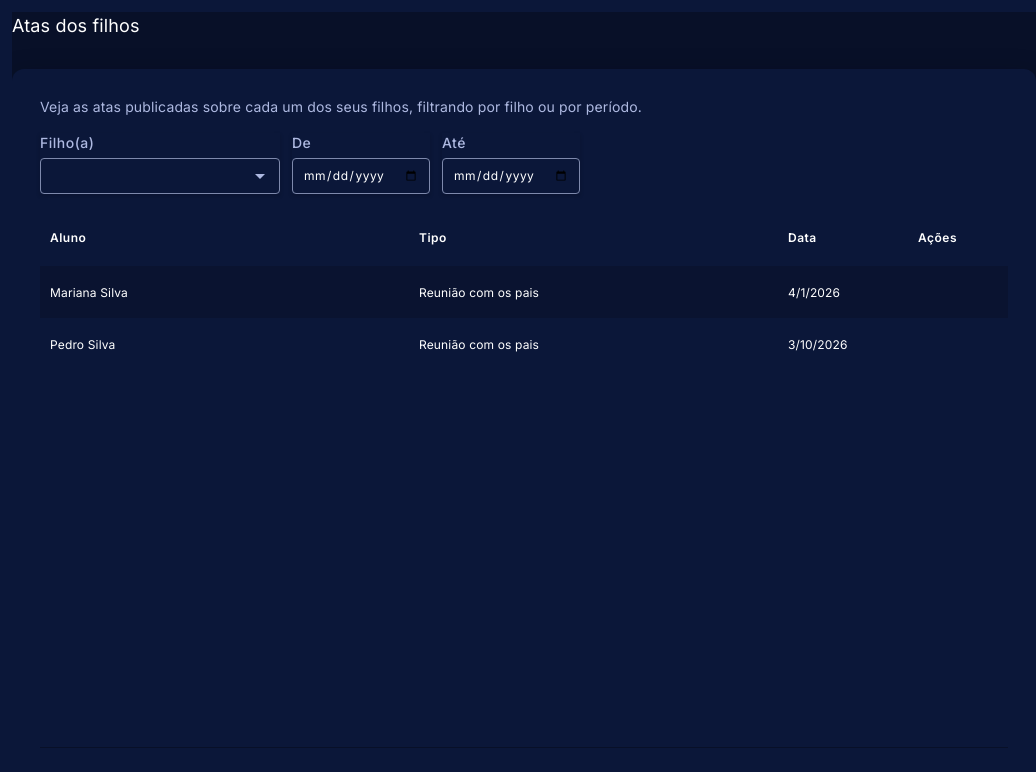
it: MyAtas › narrows the list to one student via the filter
Expected: the text "Pedro Silva" is shown, x1=50 y1=337 x2=116 y2=352
Expected: the text "Mariana Silva" is shown, x1=50 y1=285 x2=128 y2=300
Step 1. Click the dropdown named "filho" → (160,176), box x1=51 y1=167 x2=269 y2=185
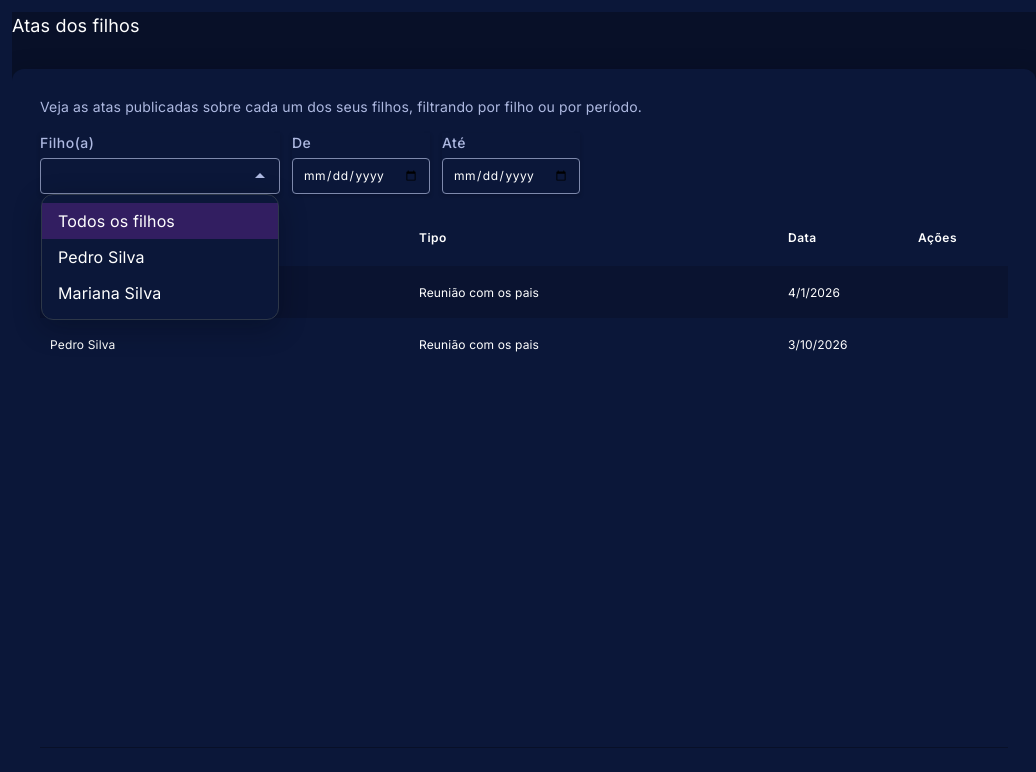
Step 2. Click the option "Pedro Silva" → (101,257), box x1=58 y1=247 x2=145 y2=267
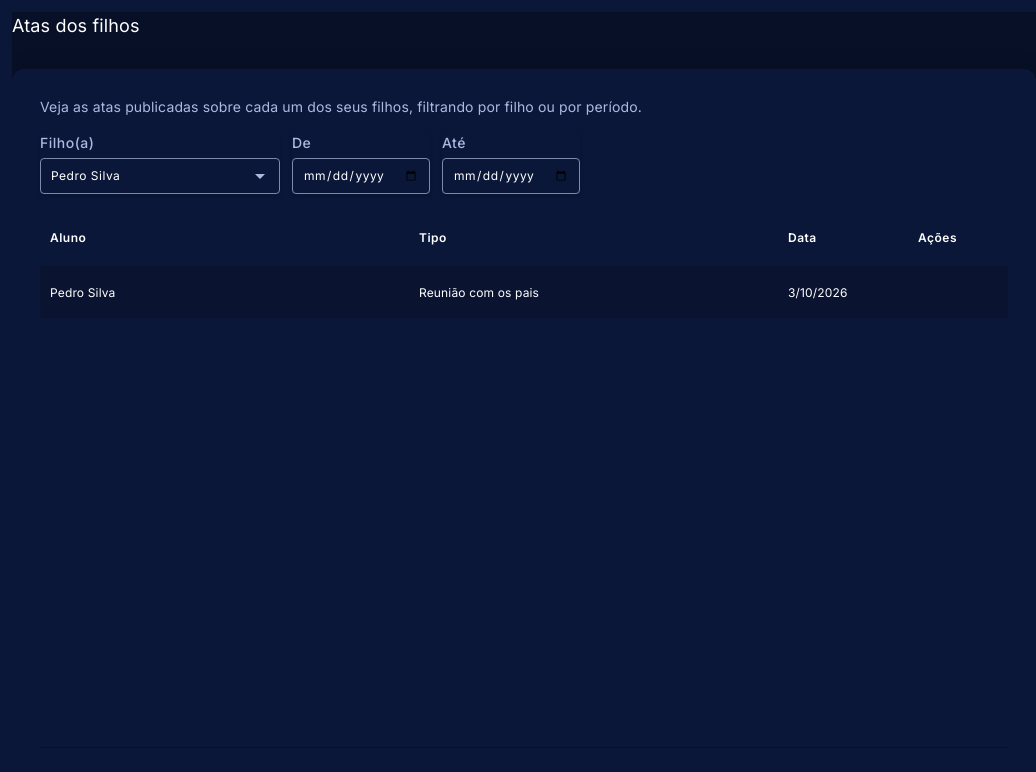
Expected: the row "Pedro Silva Reunião com os pais 3/10/2026" is shown, x1=40 y1=266 x2=1008 y2=318
Now the cell "Mariana Silva" is gone
